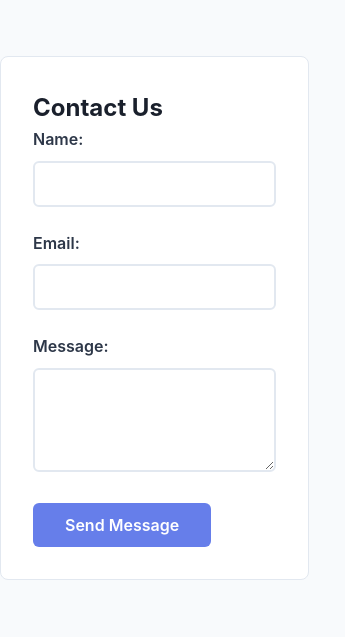
Test: ContactForm Component › shows validation errors for short inputs
In the field labelled "Name:": (154, 184) 33,161 -> 276,207, type "J"
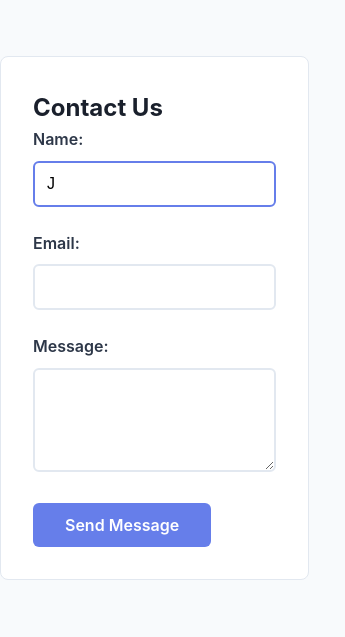
In the text box labelled "Message:": (154, 420) 33,368 -> 276,472, type "Short"
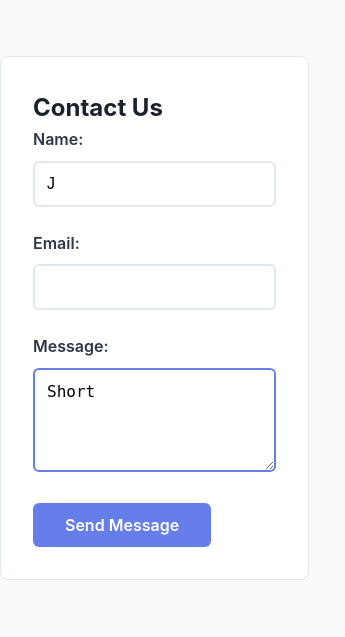
Click the button "Send Message": (122, 525) 33,503 -> 211,547
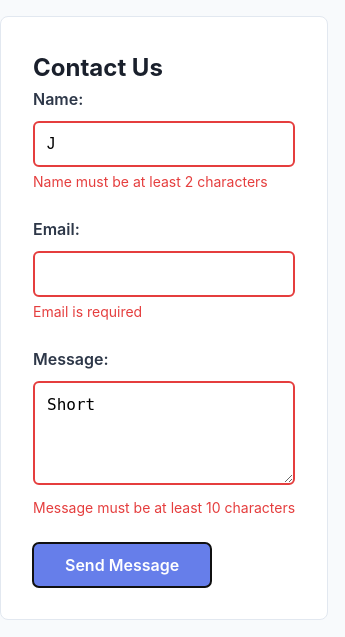
Check: the text "Name must be at least 2 characters" is shown, box 33,171 -> 295,193
Check: the text "Message must be at least 10 characters" is shown, box 33,497 -> 295,519
